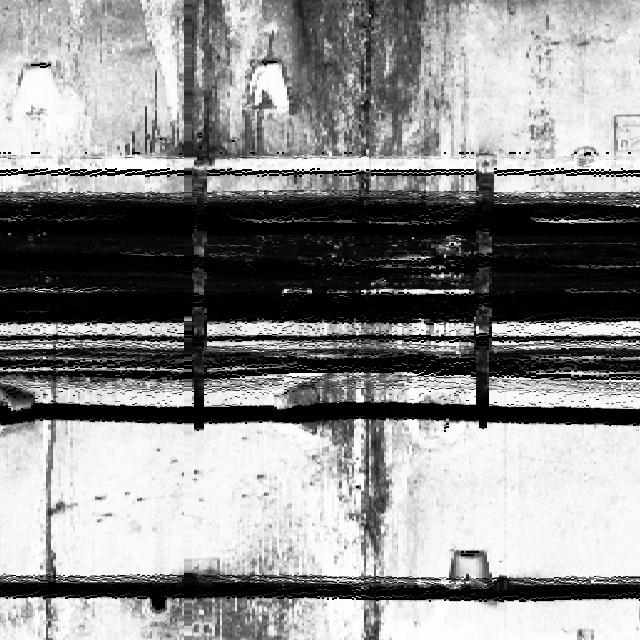leakage: (142, 0, 482, 189), (291, 322, 427, 639)
